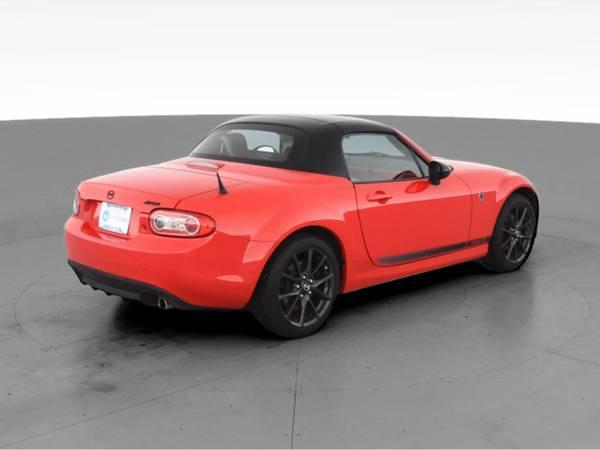Front_Fender: (453, 165, 536, 260)
Front_Right_Door: (357, 178, 475, 286)
Front_Right_Window: (342, 134, 449, 188)
Rear_Bumper: (64, 209, 278, 309)
Rear_Fender: (177, 169, 382, 292)
Rear_Windshield: (191, 122, 309, 171)
Right_Taillight: (151, 204, 220, 236)
Roof: (216, 113, 448, 181)
Tailgate: (74, 156, 281, 237)
Wheel: (260, 232, 344, 334), (493, 192, 540, 265)
